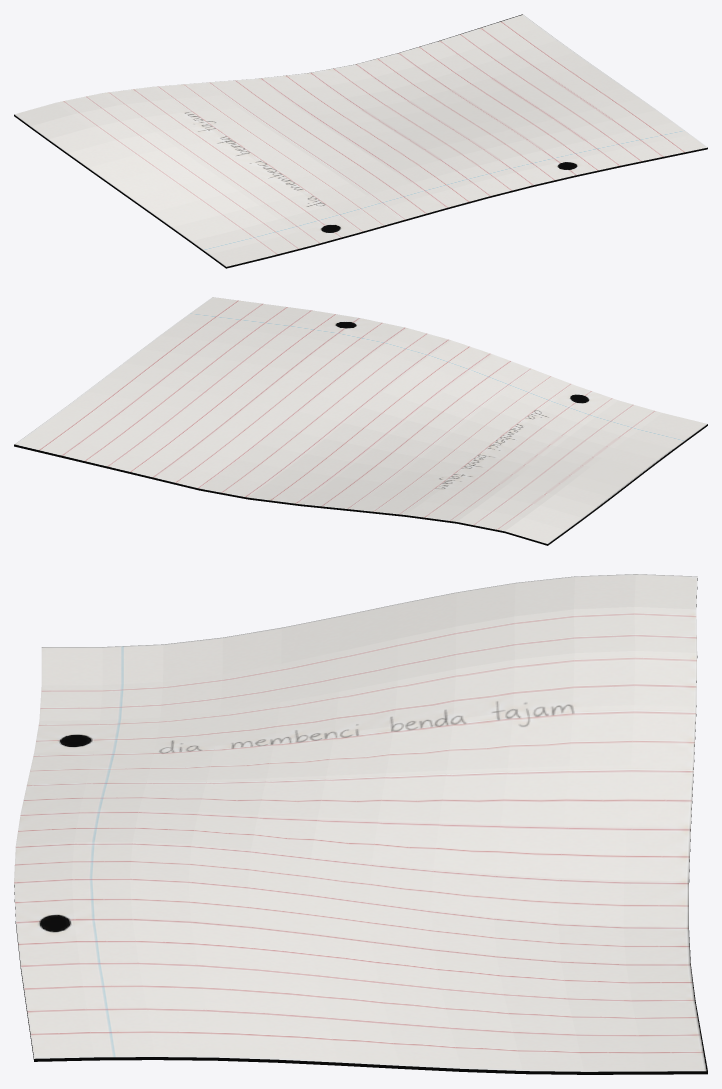
File: Benci tajam.fbx
3 renders of one model, top to bottom at view 1: azimuth 30°, elevation 25°; view 2: azimuth 150°, elevation 25°; view 3: azimuth 270°, elevation 25°, orthographic. The views are drawn at different scales.
Visible parts, largest first — view 1: kertas; view 2: kertas; view 3: kertas.
Part boxes in pixels (left/top/right/bottom): kertas: left=14, top=14, right=707, bottom=268; kertas: left=14, top=297, right=707, bottom=545; kertas: left=14, top=574, right=707, bottom=1074.
Bounding box in the file's own units: 142 × 9.39 × 93.23.
Materials: 1 (1 with a texture image).
